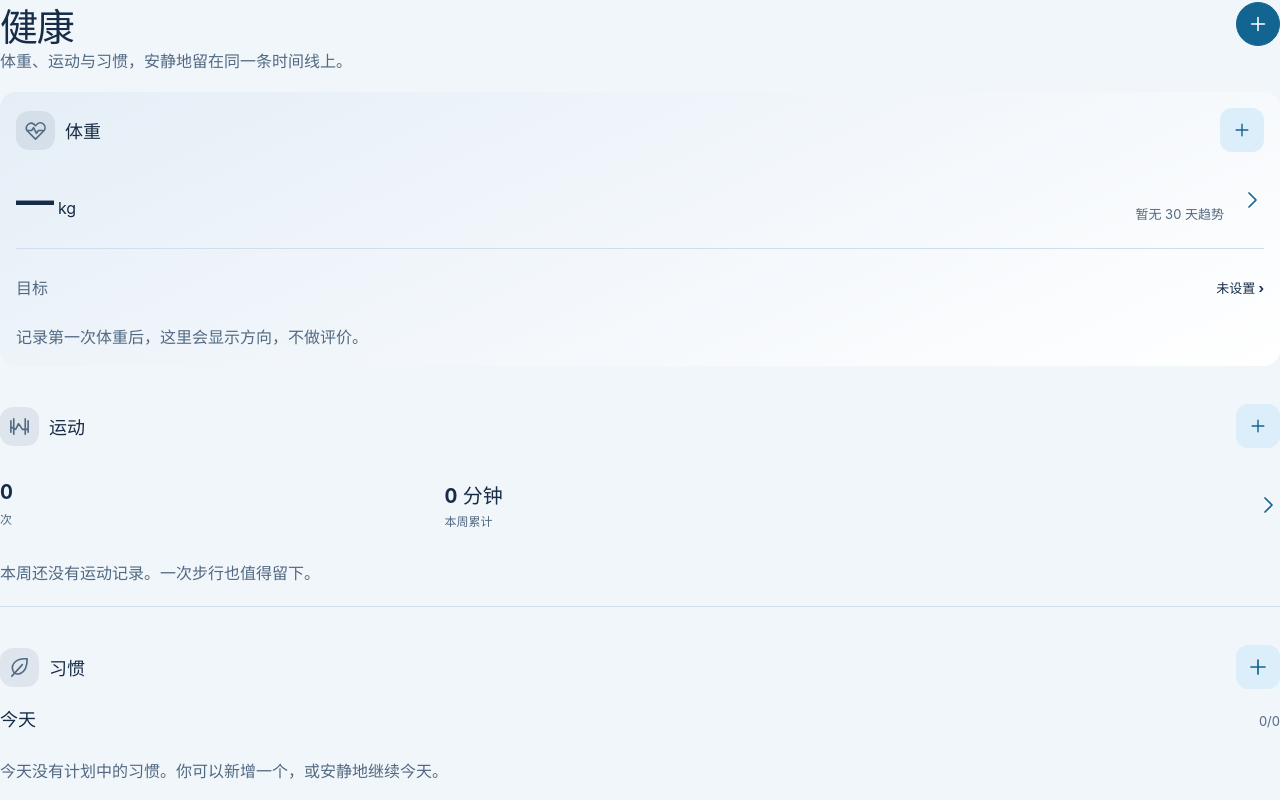
Scenario: V2 Health user interface › keeps a weight draft visible when IndexedDB rejects the write
Click the button named "添加健康记录" at (1258, 24), box top-left (1236, 2), bottom-right (1279, 46)
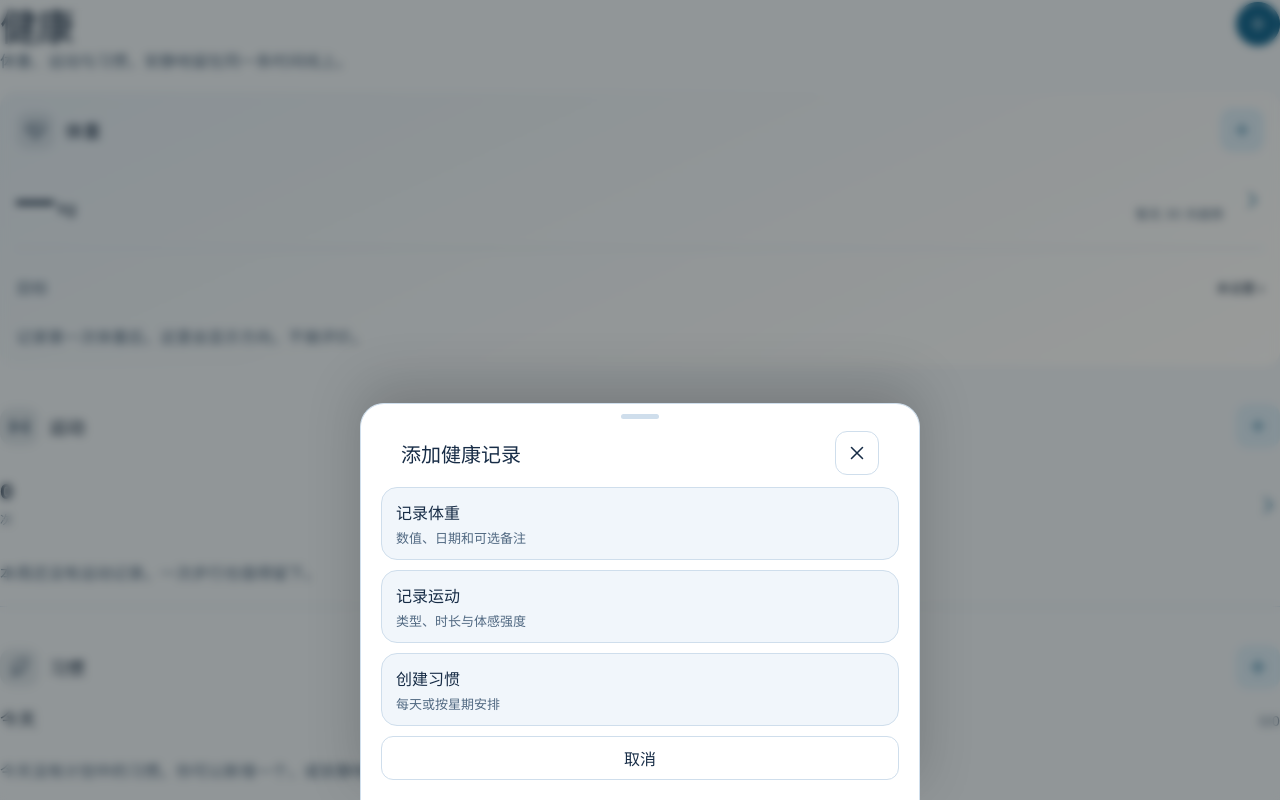
Click the button "记录体重 数值、日期和可选备注" at (428, 513), box top-left (381, 487), bottom-right (899, 560)
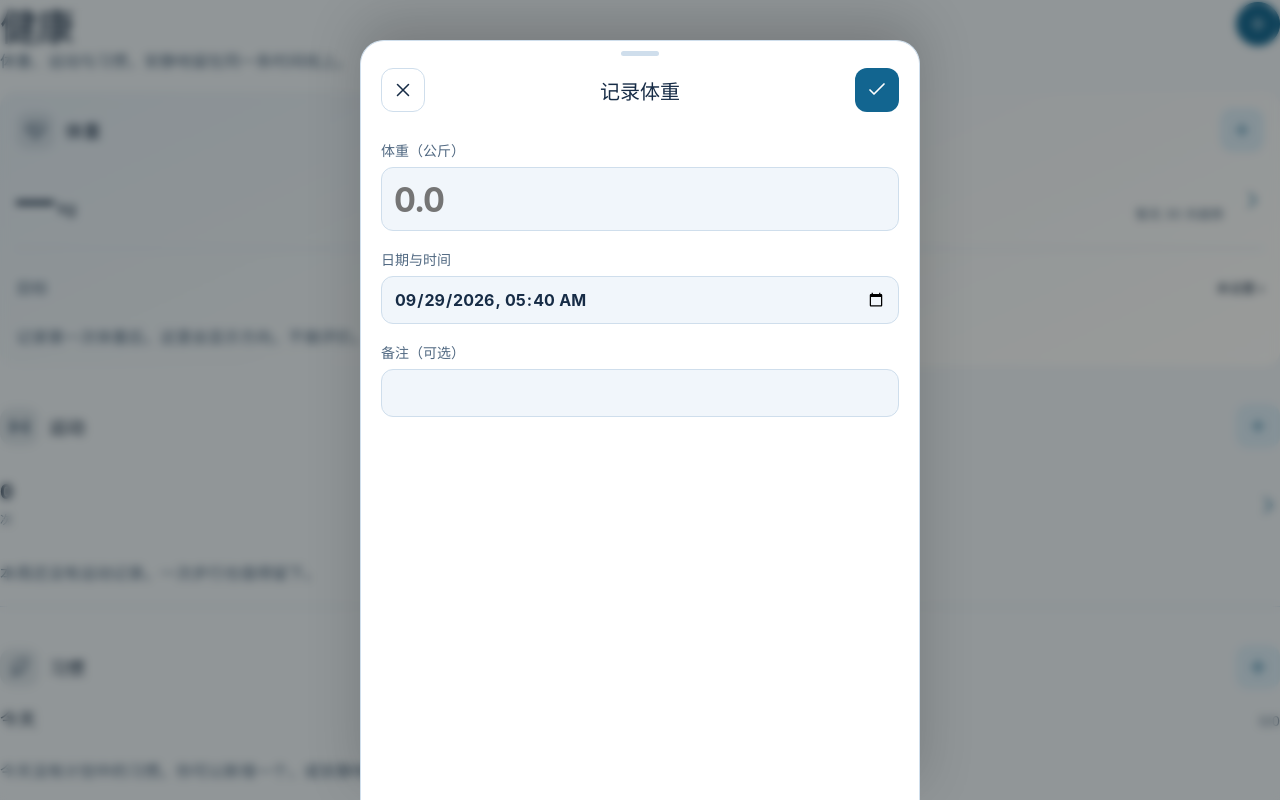
Type "72.3" into the field labelled "体重（公斤）" at (640, 199), box top-left (381, 167), bottom-right (899, 231)
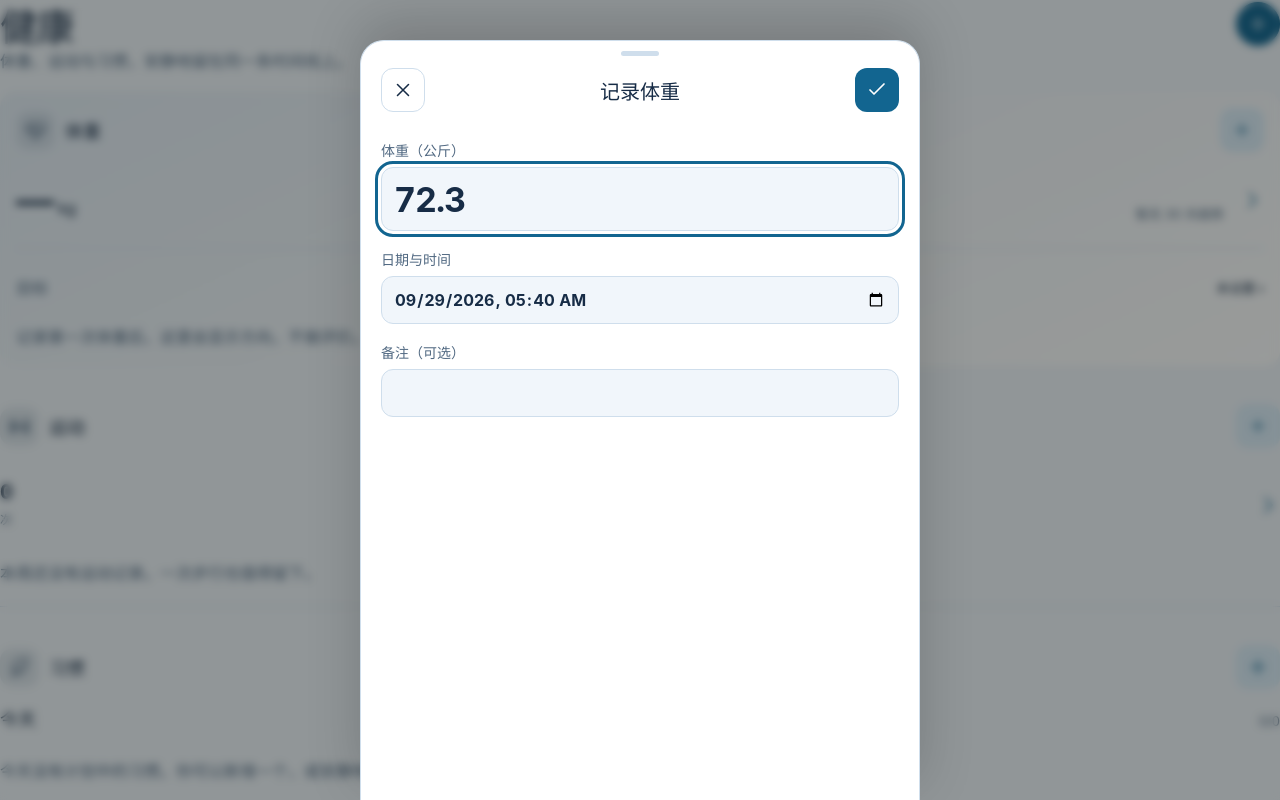
Click the button named "保存体重" at (877, 90), box top-left (855, 68), bottom-right (899, 112)
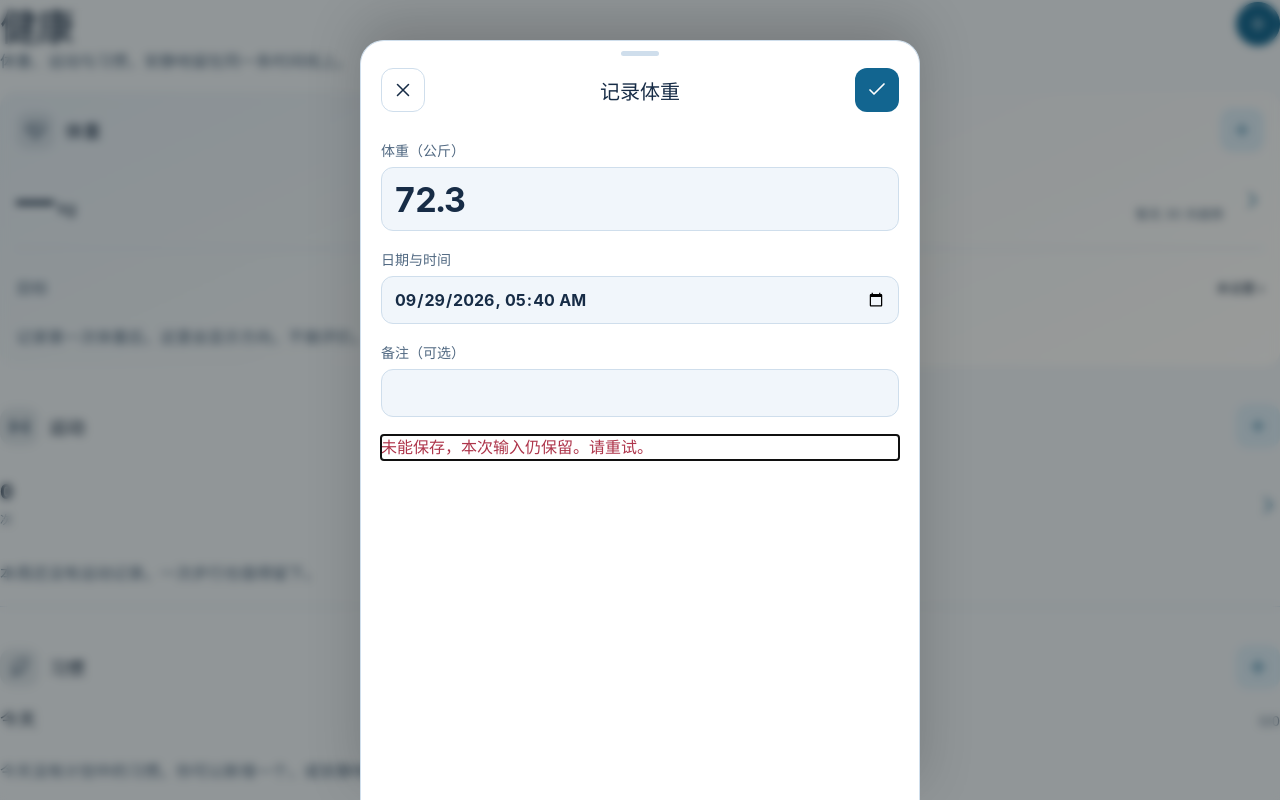
Check: the message shows "未能保存，本次输入仍保留", box top-left (381, 437), bottom-right (653, 457)
